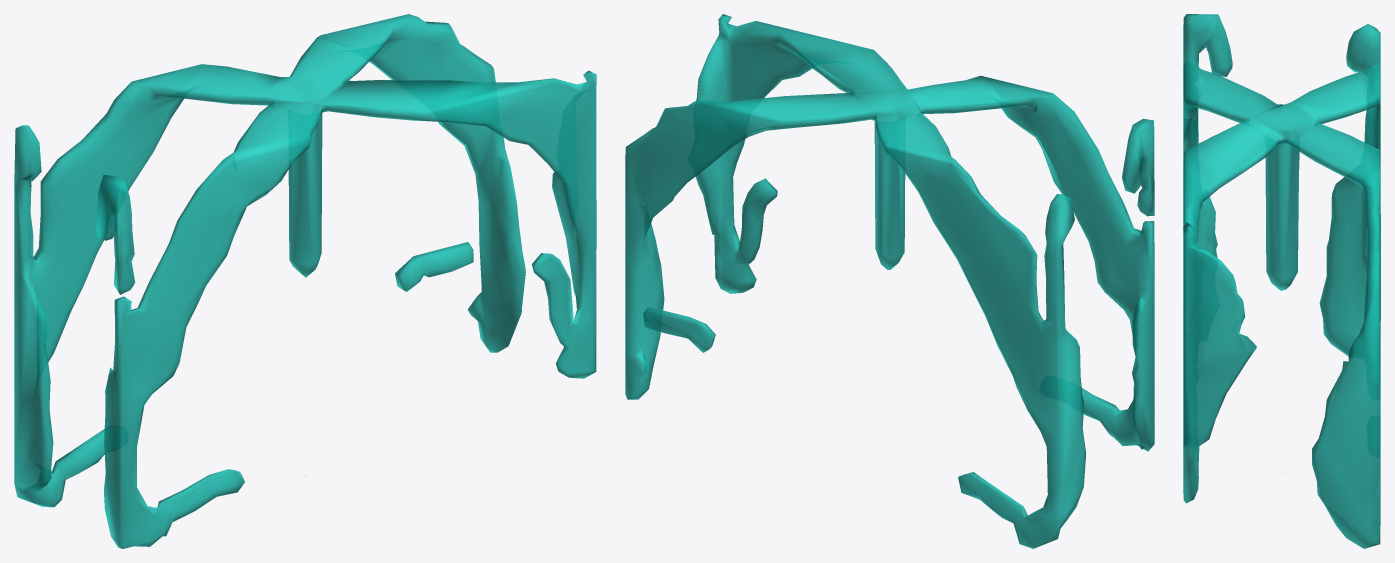
The picture shows the model from 3 angles, left to right: view 1: azimuth 30°, elevation 25°; view 2: azimuth 150°, elevation 25°; view 3: azimuth 270°, elevation 25°; orthographic projection. The views are drawn at different scales.
Parts seen in each view (by area): view 1: Liquid_Domain; view 2: Liquid_Domain; view 3: Liquid_Domain.
Part boxes in pixels (bbox=[...]): Liquid_Domain: bbox=[14, 14, 596, 548]; Liquid_Domain: bbox=[625, 14, 1154, 548]; Liquid_Domain: bbox=[1183, 14, 1380, 548].
Size of the model in its own units: 884 by 716 by 345.
